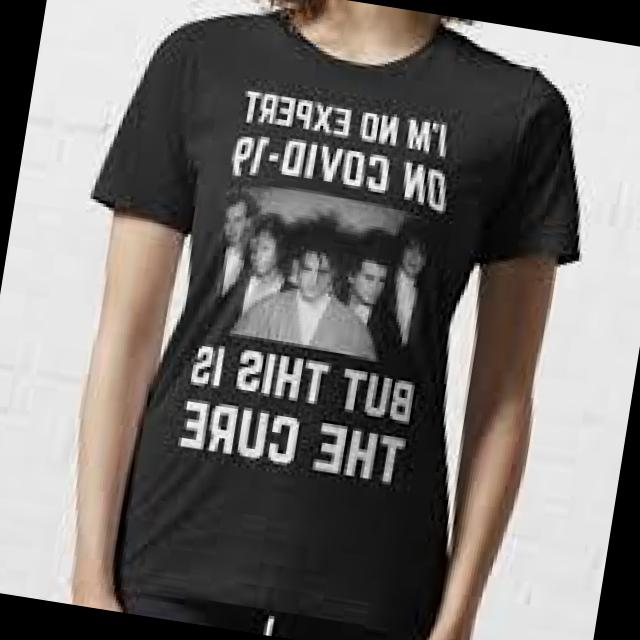Tshirt: (36, 0, 623, 640)
